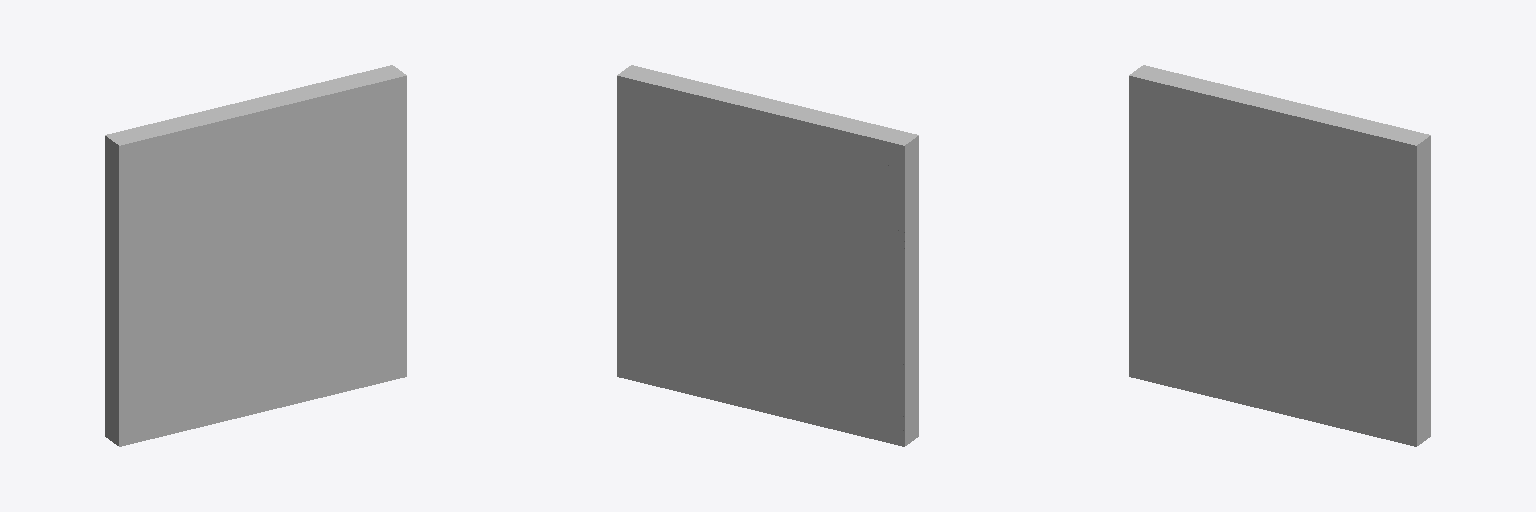
File: zom_dah_ceiling_edge_4m.obj
3 views of the same model, side by side, from view 1: azimuth 30°, elevation 25°; view 2: azimuth 150°, elevation 25°; view 3: azimuth 330°, elevation 25° (orthographic).
Visible parts, largest first — view 1: c_box_002, co_culling, c_box_001; view 2: co_culling, c_box_002; view 3: c_box_002, co_culling.
Boxes of the visible parts, box(x1,y1,x2,y2) form: c_box_002: box(115, 73, 406, 446); co_culling: box(105, 65, 402, 443); c_box_001: box(105, 136, 114, 441); co_culling: box(617, 68, 914, 446); c_box_002: box(628, 65, 918, 438); c_box_002: box(1129, 73, 1420, 446); co_culling: box(1133, 65, 1430, 443).
Size of the model in its own units: 400 by 400 by 35.